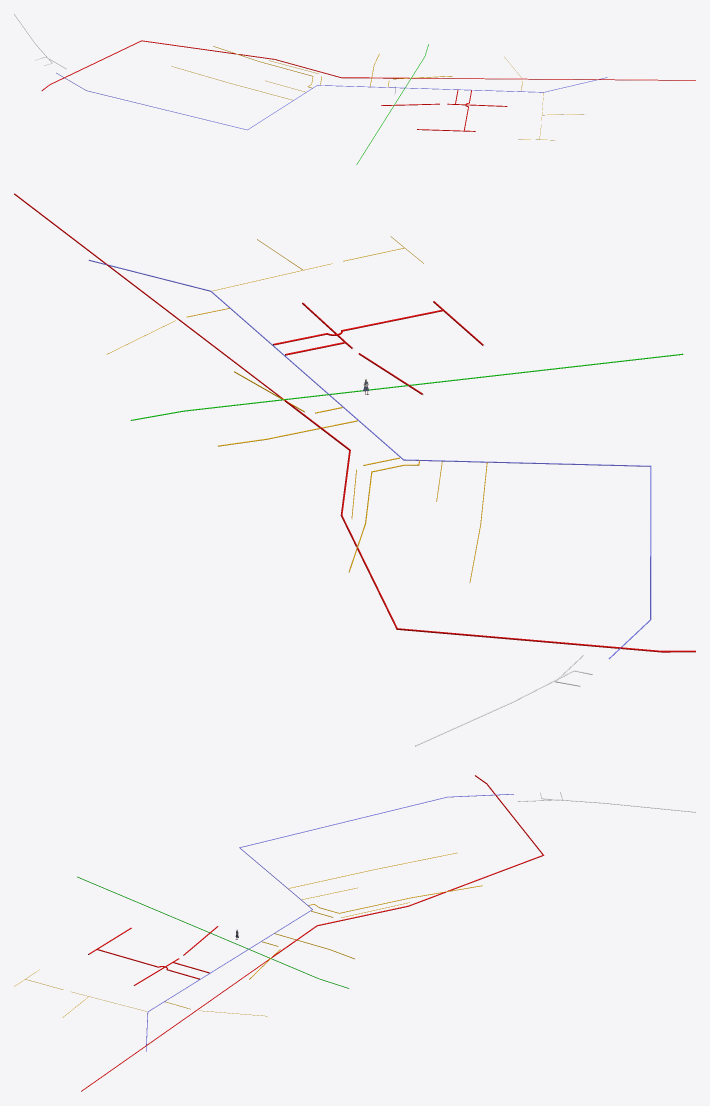
The picture shows the model from 3 angles, top to bottom: view 1: azimuth 30°, elevation 25°; view 2: azimuth 150°, elevation 25°; view 3: azimuth 270°, elevation 25°; orthographic projection. The views are drawn at different scales.
Parts seen in each view (by area): view 1: Geom3D (×4); view 2: Geom3D (×5); view 3: Geom3D (×4).
Boxes of the visible parts, x1=… form: Geom3D (×4): x1=42, y1=40, x2=695, y2=131; Geom3D (×5): x1=14, y1=193, x2=695, y2=659; Geom3D (×4): x1=63, y1=775, x2=544, y2=1091.
Bounding box in the file's own units: 103 × 1.67 × 94.18.
